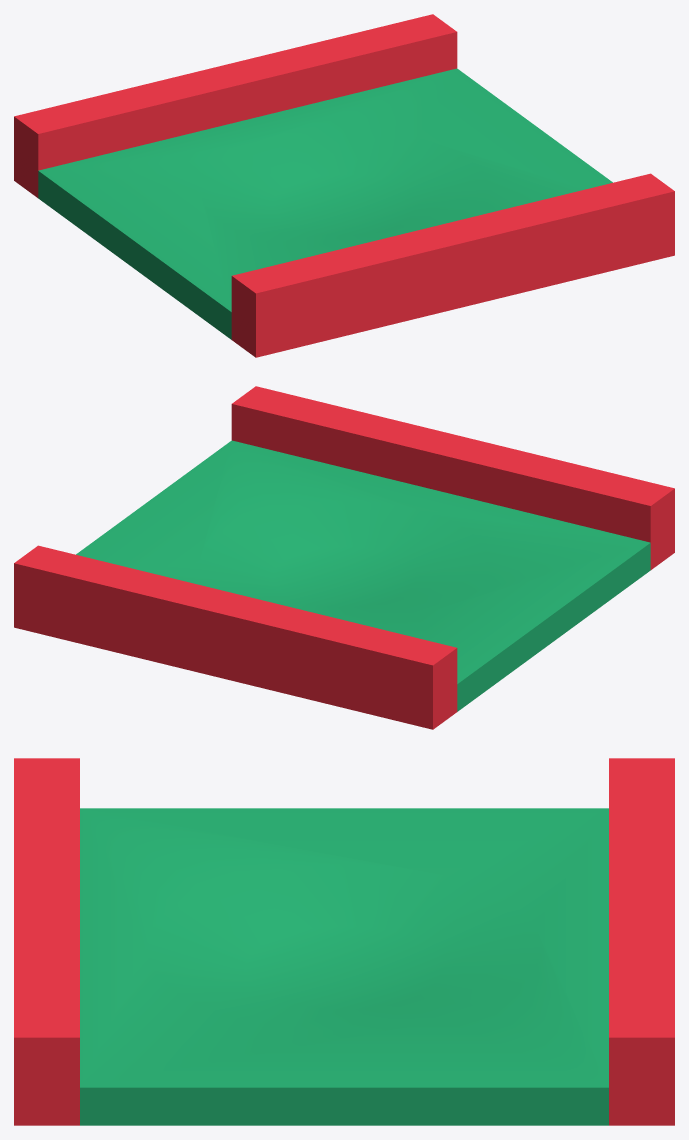
File: bumpDownWalls.obj
3 views of the same model, one above another, from view 1: azimuth 30°, elevation 25°; view 2: azimuth 150°, elevation 25°; view 3: azimuth 270°, elevation 25° (orthographic). The views are drawn at different scales.
Parts seen in each view (by area): view 1: bumpDownWalls; view 2: bumpDownWalls; view 3: bumpDownWalls.
Part boxes in pixels (x1,y1,x2,y2): bumpDownWalls: (14, 14, 674, 357); bumpDownWalls: (14, 386, 674, 729); bumpDownWalls: (14, 758, 674, 1125).
Bounding box in the file's own units: 0.9999 × 0.1467 × 0.9999.
